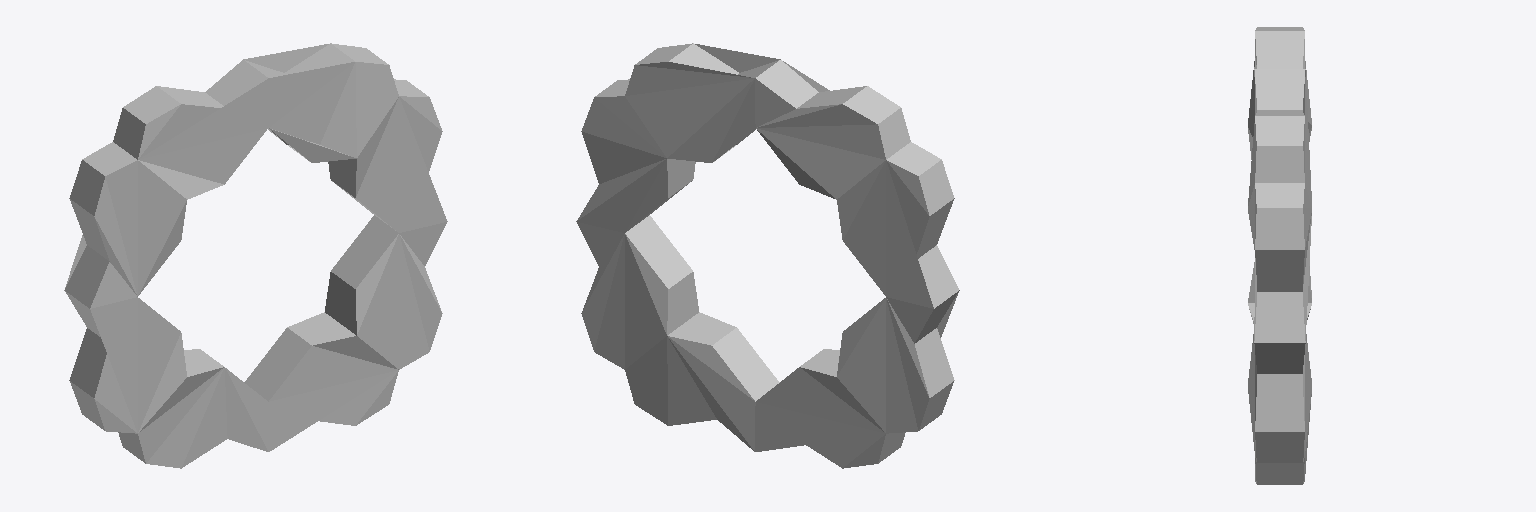
File: Sun.obj
3 renders of one model, left to right at view 1: azimuth 30°, elevation 25°; view 2: azimuth 150°, elevation 25°; view 3: azimuth 270°, elevation 25°, orthographic.
Visible parts, largest first — view 1: Cubo; view 2: Cubo; view 3: Cubo.
Part boxes in pixels (x1,y1,x2,y2): Cubo: (64,43,447,468); Cubo: (576,43,959,468); Cubo: (1248,27,1311,484).
Bounding box in the file's own units: 6.63 × 6.63 × 1.04.